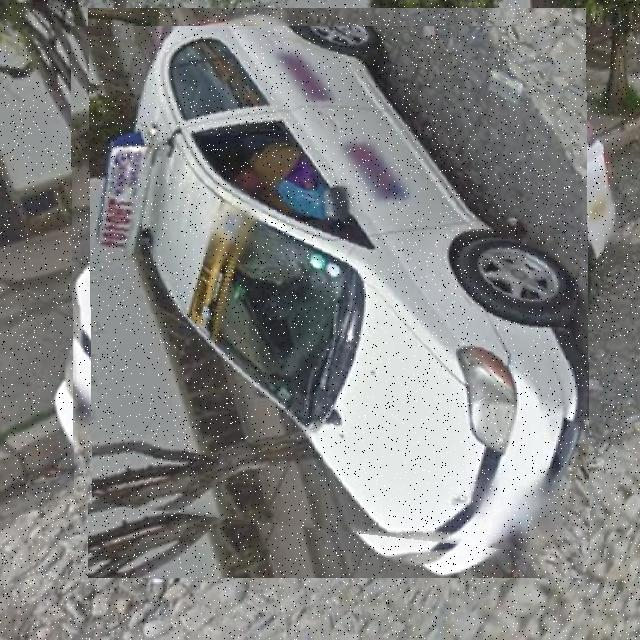car: (71, 27, 605, 562)
